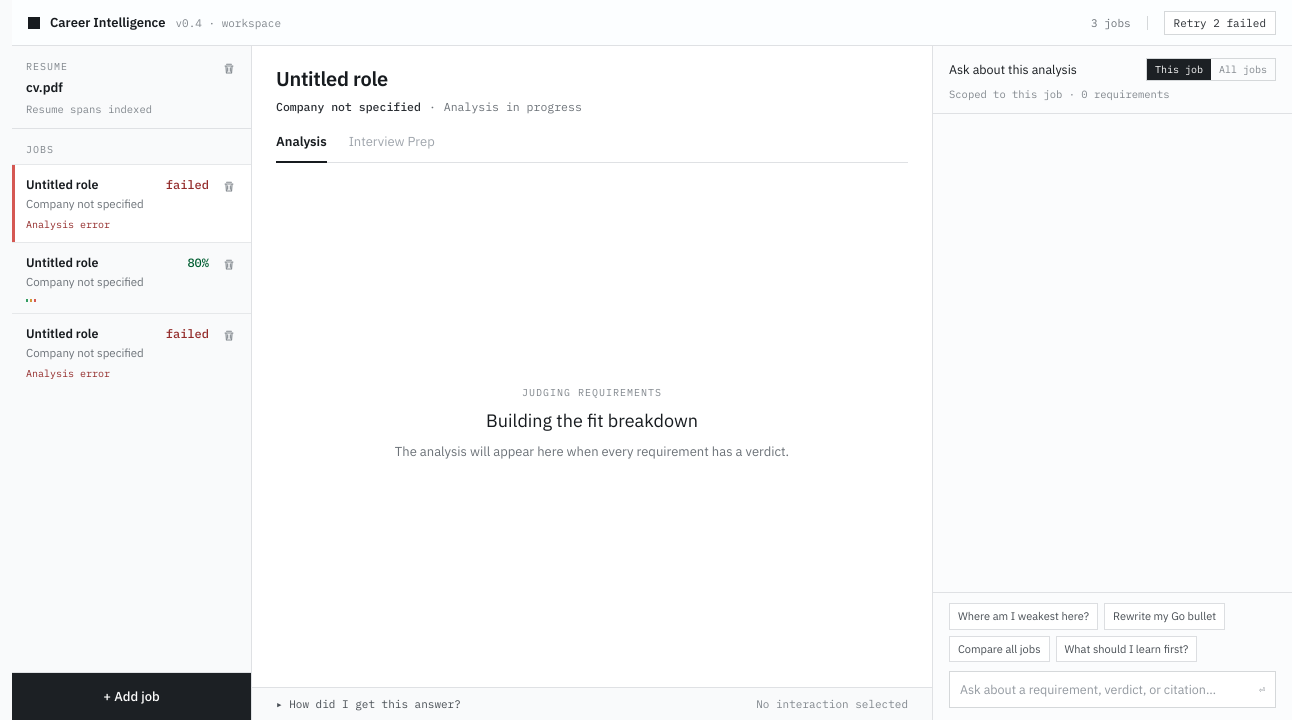
retrying failed analyses › reports a genuine failure but not a 409 from an already-retried job
The image size is (1292, 720).
Click the button "Retry 2 failed": (1220, 22) 1164,10 -> 1276,34
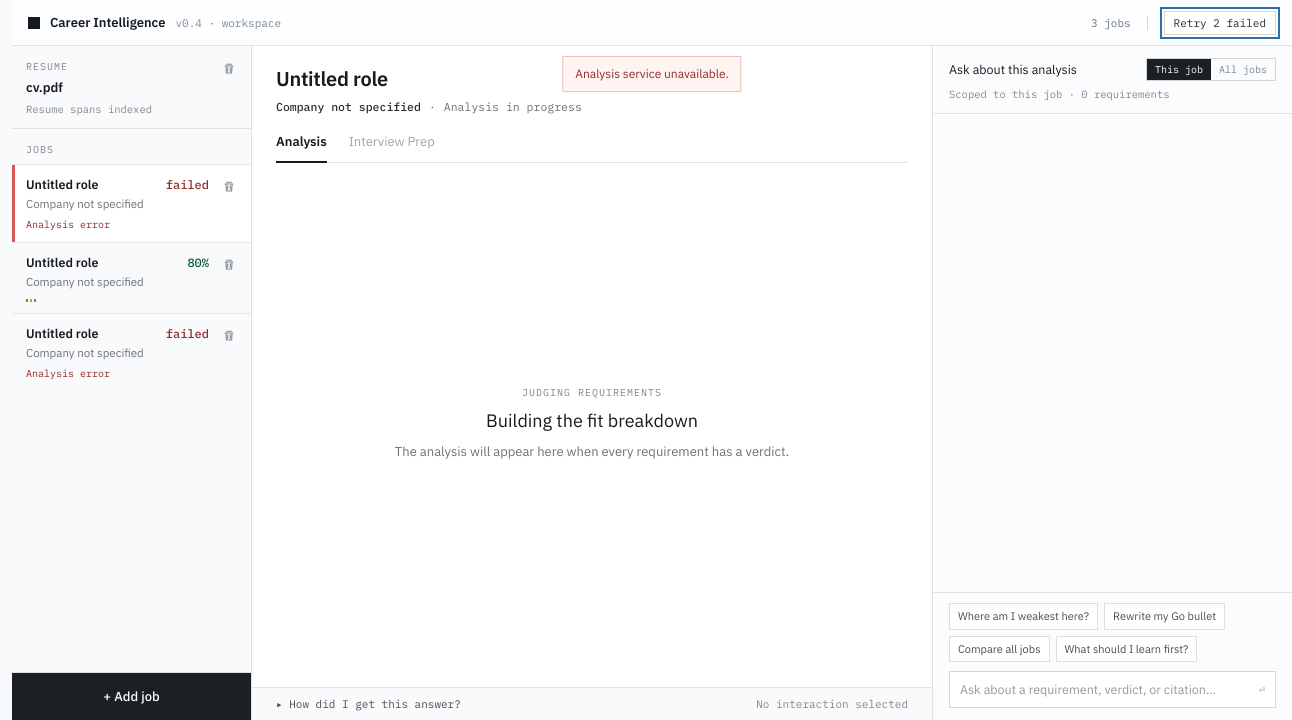
Check: the message reads "Analysis service unavailable.", box 575,66 -> 729,81
